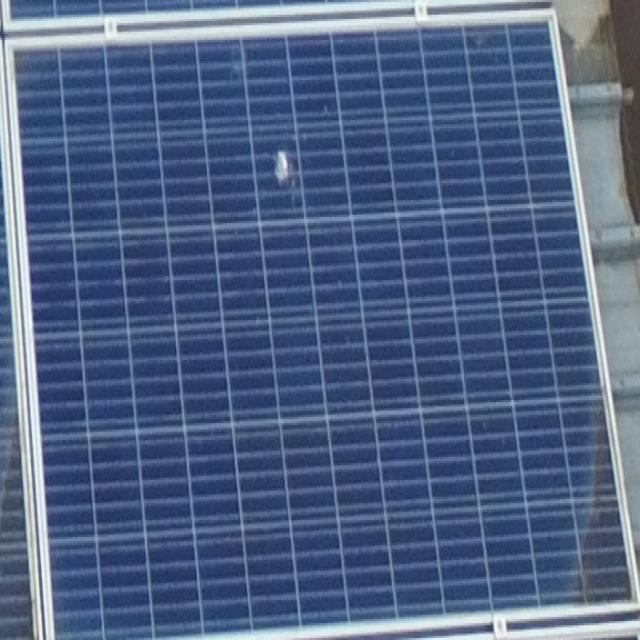Dust: (530, 365, 635, 607), (2, 427, 34, 640)
bird-droppings: (270, 136, 296, 195)
